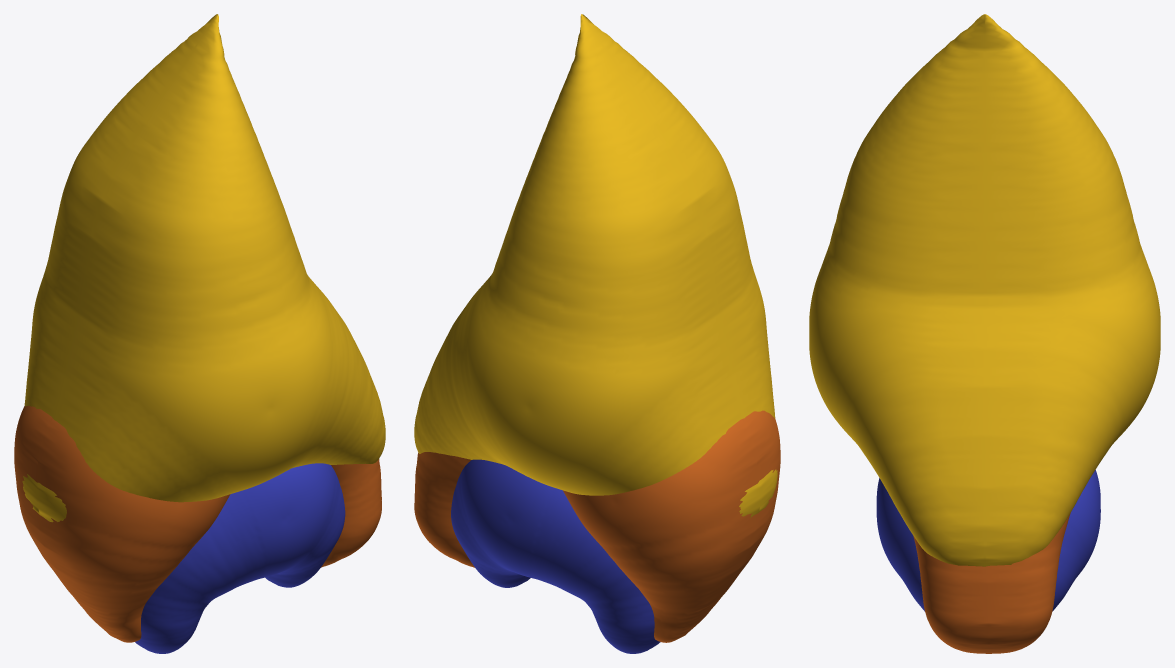
File: FLAME.fbx
The picture shows the model from 3 angles, left to right: view 1: azimuth 30°, elevation 25°; view 2: azimuth 150°, elevation 25°; view 3: azimuth 270°, elevation 25°; orthographic projection. The views are drawn at different scales.
Visible parts, largest first — view 1: root (×3); view 2: root (×3); view 3: root (×3).
Part boxes in pixels (x1=…): root (×3): x1=14, y1=14, x2=385, y2=653; root (×3): x1=414, y1=14, x2=780, y2=653; root (×3): x1=809, y1=14, x2=1160, y2=653.
Size of the model in its own units: 0.4528 by 0.8066 by 0.402.
3 materials, 1 textured.
